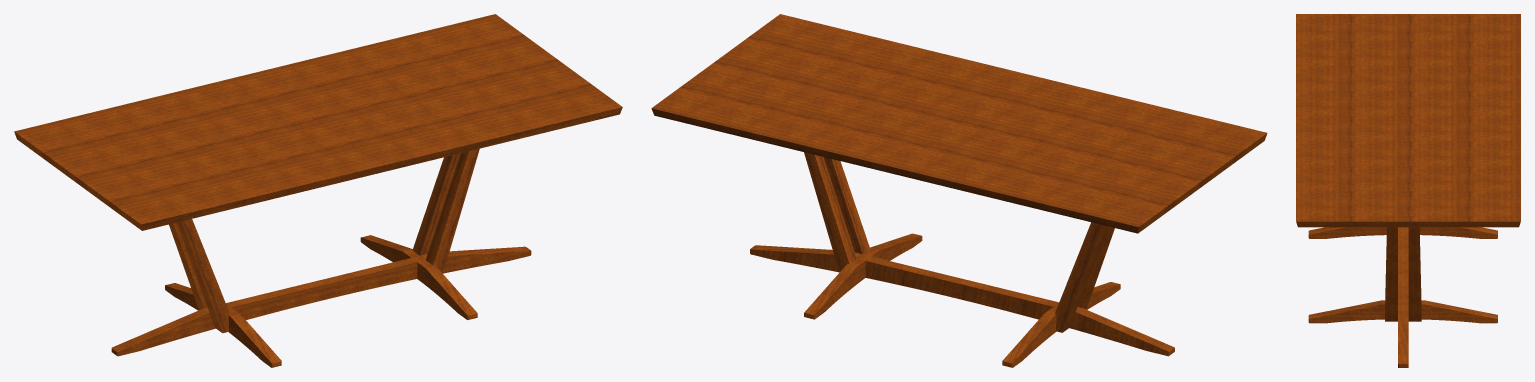
Rendered from dining-table-edo.glb.
3 views of the same model, side by side, from view 1: azimuth 30°, elevation 25°; view 2: azimuth 150°, elevation 25°; view 3: azimuth 270°, elevation 25° (orthographic). The views are drawn at different scales.
Parts seen in each view (by area): view 1: C-Component#6, C-Component#1, C-Component#3.001, C-Component#2.001, C-Component#3.002, C-Component#2, C-Component#3, C-Component#3.003; view 2: C-Component#6, C-Component#1, C-Component#3, C-Component#2.001, C-Component#3.003, C-Component#2, C-Component#3.001, C-Component#3.002; view 3: C-Component#6, C-Component#2.001, C-Component#2, C-Component#1, C-Component#3, C-Component#3.001.
Boxes of the visible parts, x1=… form: C-Component#6: x1=14, y1=14, x2=622, y2=230; C-Component#1: x1=111, y1=246, x2=531, y2=356; C-Component#3.001: x1=426, y1=148, x2=479, y2=273; C-Component#2.001: x1=360, y1=235, x2=477, y2=319; C-Component#3.002: x1=177, y1=219, x2=230, y2=333; C-Component#2: x1=165, y1=283, x2=281, y2=367; C-Component#3: x1=412, y1=153, x2=460, y2=255; C-Component#3.003: x1=169, y1=222, x2=207, y2=309; C-Component#6: x1=651, y1=14, x2=1267, y2=233; C-Component#1: x1=750, y1=245, x2=1174, y2=356; C-Component#3: x1=804, y1=152, x2=856, y2=272; C-Component#2.001: x1=804, y1=233, x2=922, y2=319; C-Component#3.003: x1=1055, y1=222, x2=1106, y2=332; C-Component#2: x1=1002, y1=282, x2=1120, y2=367; C-Component#3.001: x1=823, y1=157, x2=870, y2=254; C-Component#3.002: x1=1077, y1=226, x2=1114, y2=309; C-Component#6: x1=1296, y1=14, x2=1520, y2=227; C-Component#2.001: x1=1308, y1=300, x2=1497, y2=323; C-Component#2: x1=1308, y1=227, x2=1497, y2=238; C-Component#1: x1=1398, y1=227, x2=1408, y2=367; C-Component#3: x1=1408, y1=227, x2=1421, y2=321; C-Component#3.001: x1=1385, y1=227, x2=1397, y2=321.
Bounding box in the file's own units: 2.11 × 0.7636 × 0.9652.
1 material, 1 textured.
